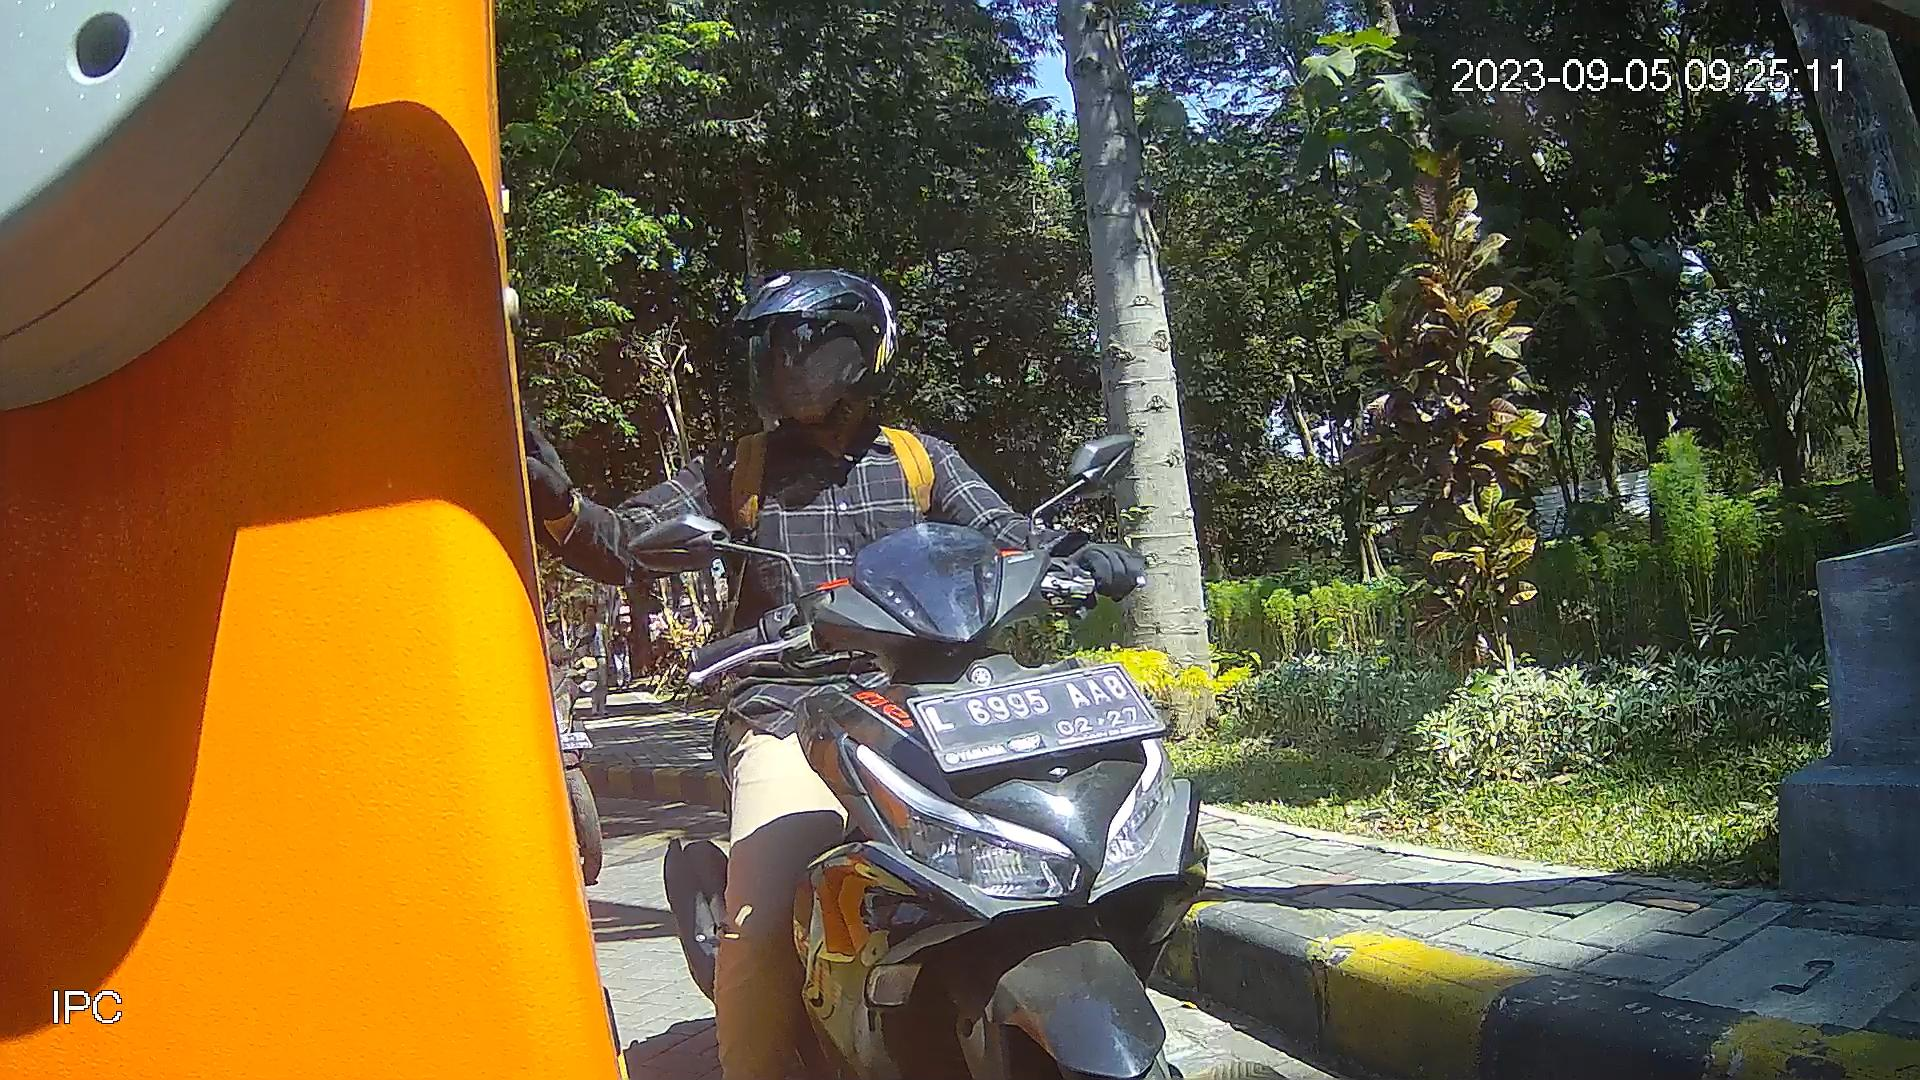plat: (906, 663, 1167, 775)
